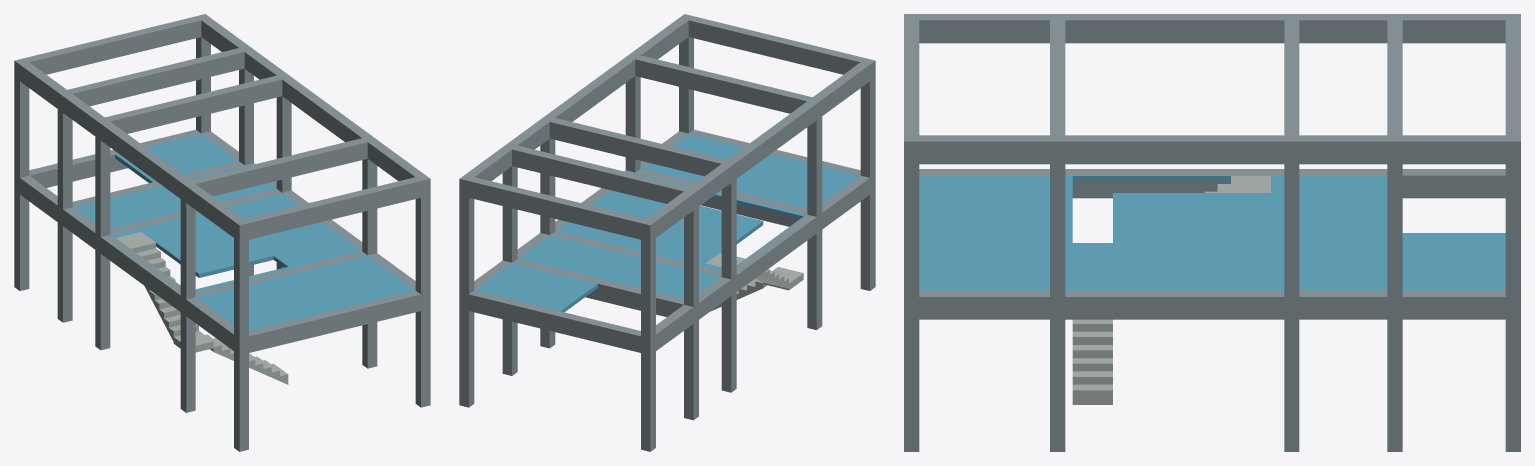
Rendered from structure.glb.
3 renders of one model, left to right at view 1: azimuth 30°, elevation 25°; view 2: azimuth 150°, elevation 25°; view 3: azimuth 270°, elevation 25°, orthographic. The views are drawn at different scales.
Visible parts, largest first — view 1: RB_Beams_Roof__WEB, PL1_Dak_LT2__WEB, B1_Beams_LT2__WEB, K1_B1_L1__WEB, K1_B1_L2__WEB, K1_A2_L1__WEB, K1_A2_L2__WEB, K1_A4_L1__WEB, K1_A4_L2__WEB, K1_A3_L1__WEB, K1_A3_L2__WEB, K1_A5_L1__WEB (+11 smaller); view 2: RB_Beams_Roof__WEB, PL1_Dak_LT2__WEB, B1_Beams_LT2__WEB, K1_B5_L1__WEB, K1_B5_L2__WEB, K1_A2_L2__WEB, K1_A2_L1__WEB, K1_A1_L1__WEB, K1_A1_L2__WEB, K1_A3_L2__WEB, K1_A3_L1__WEB, K1_A5_L1__WEB (+8 smaller); view 3: PL1_Dak_LT2__WEB, RB_Beams_Roof__WEB, B1_Beams_LT2__WEB, TG_Flight_1__WEB, K1_B1_L2__WEB, K1_B2_L2__WEB, K1_B3_L2__WEB, K1_B4_L1__WEB, K1_B4_L2__WEB, K1_B5_L2__WEB, K1_B1_L1__WEB, K1_B2_L1__WEB (+3 smaller).
Part boxes in pixels (<box>): RB_Beams_Roof__WEB: <box>14,14,430,241</box>; PL1_Dak_LT2__WEB: <box>73,133,414,330</box>; B1_Beams_LT2__WEB: <box>14,129,430,355</box>; K1_B1_L1__WEB: <box>415,309,430,407</box>; K1_B1_L2__WEB: <box>415,195,430,294</box>; K1_A2_L1__WEB: <box>180,312,195,412</box>; K1_A2_L2__WEB: <box>180,199,195,299</box>; K1_A4_L1__WEB: <box>57,222,72,322</box>; K1_A4_L2__WEB: <box>57,109,72,209</box>; K1_A3_L1__WEB: <box>95,250,110,350</box>; K1_A3_L2__WEB: <box>95,137,110,236</box>; K1_A5_L1__WEB: <box>14,191,29,290</box>; RB_Beams_Roof__WEB: <box>459,14,875,241</box>; PL1_Dak_LT2__WEB: <box>475,133,859,312</box>; B1_Beams_LT2__WEB: <box>459,129,875,355</box>; K1_B5_L1__WEB: <box>459,309,474,407</box>; K1_B5_L2__WEB: <box>459,195,474,294</box>; K1_A2_L2__WEB: <box>807,116,822,216</box>; K1_A2_L1__WEB: <box>807,230,822,329</box>; K1_A1_L1__WEB: <box>860,191,875,290</box>; K1_A1_L2__WEB: <box>860,77,875,177</box>; K1_A3_L2__WEB: <box>721,179,736,279</box>; K1_A3_L1__WEB: <box>721,292,736,392</box>; K1_A5_L1__WEB: <box>641,351,655,451</box>; PL1_Dak_LT2__WEB: <box>919,175,1505,290</box>; RB_Beams_Roof__WEB: <box>904,14,1520,164</box>; B1_Beams_LT2__WEB: <box>904,169,1520,319</box>; TG_Flight_1__WEB: <box>1072,319,1112,404</box>; K1_B1_L2__WEB: <box>904,164,919,296</box>; K1_B2_L2__WEB: <box>1050,164,1065,296</box>; K1_B3_L2__WEB: <box>1284,164,1299,296</box>; K1_B4_L1__WEB: <box>1387,319,1402,451</box>; K1_B4_L2__WEB: <box>1387,164,1402,296</box>; K1_B5_L2__WEB: <box>1505,164,1520,296</box>; K1_B1_L1__WEB: <box>904,319,919,451</box>; K1_B2_L1__WEB: <box>1050,319,1065,451</box>.
Bounding box in the file's own units: 6 × 6.95 × 12.25.
